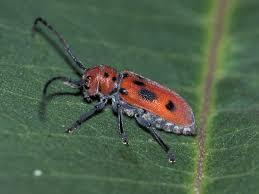insect: (30, 11, 200, 162)
